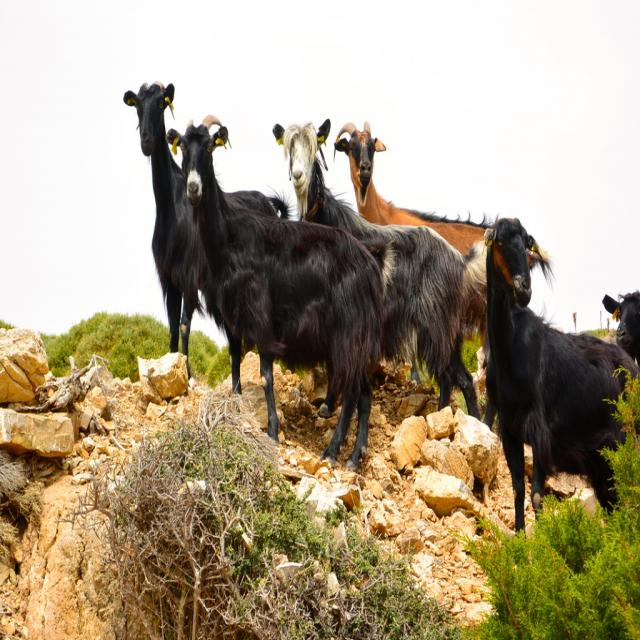Goat: (123, 81, 640, 540)
